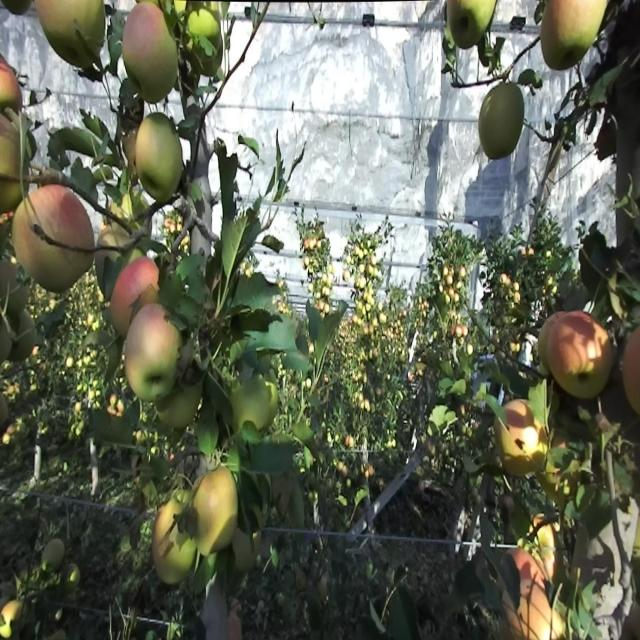apple: (124, 305, 184, 404), (124, 6, 180, 107), (12, 191, 64, 281), (136, 113, 185, 208), (32, 184, 92, 254), (112, 255, 161, 340), (196, 468, 240, 560), (540, 312, 588, 395), (152, 504, 197, 588), (140, 13, 180, 107), (480, 84, 526, 164), (576, 319, 615, 404), (140, 312, 183, 389), (552, 0, 600, 68), (500, 397, 540, 476), (232, 376, 280, 439), (12, 198, 47, 281), (72, 0, 108, 75), (564, 0, 603, 66), (112, 262, 144, 340), (540, 6, 575, 75), (156, 385, 199, 439), (40, 243, 83, 297), (40, 1, 78, 62), (528, 582, 567, 639), (232, 390, 272, 443), (448, 1, 487, 53), (76, 0, 108, 60), (248, 376, 280, 432), (0, 113, 23, 183), (624, 326, 640, 418), (524, 419, 550, 475), (0, 56, 23, 114), (196, 36, 224, 82), (156, 392, 188, 432), (128, 349, 151, 402), (232, 532, 259, 576), (188, 6, 221, 41), (624, 326, 640, 398), (260, 376, 280, 432), (68, 42, 99, 76), (504, 596, 529, 638), (596, 113, 616, 162), (0, 177, 23, 219), (516, 554, 537, 596), (4, 1, 35, 20), (540, 554, 558, 585), (632, 506, 640, 560), (636, 518, 640, 560)
